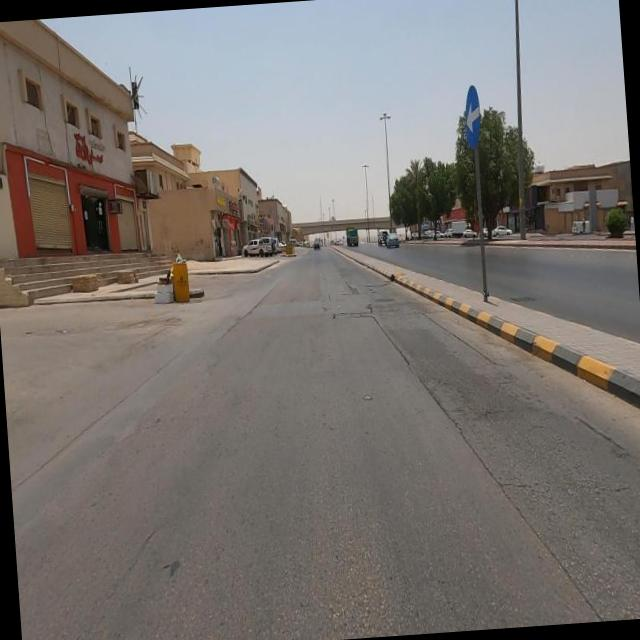debris: (130, 242, 196, 333)
